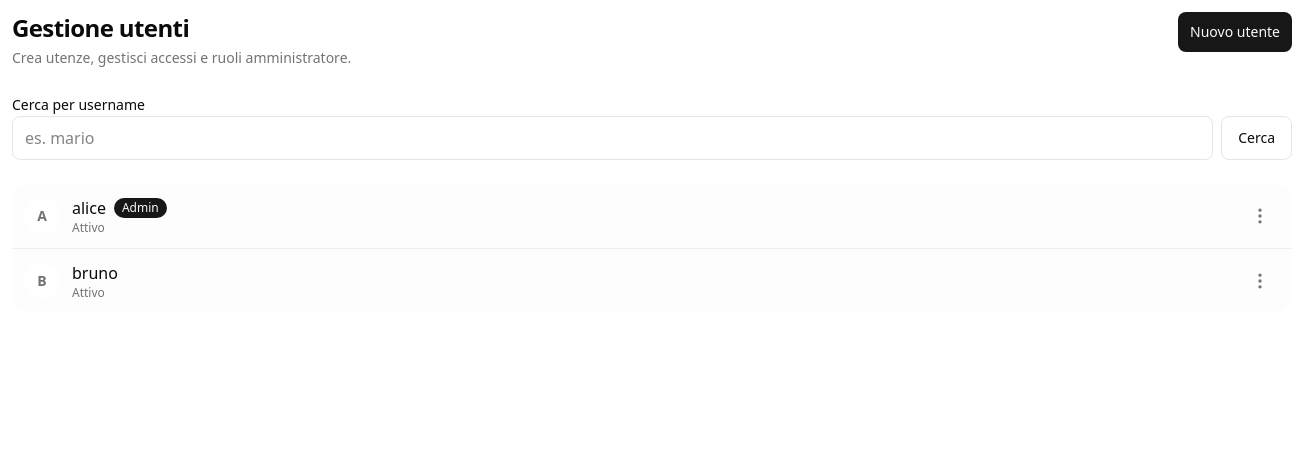
it: UsersView › disattiva un utente chiamando PATCH e aggiorna la riga
Expected: the list item does not show "Disattiva"
Click the button named "Azioni per bruno".
click(1260, 281)  # box [1240, 261, 1280, 301]
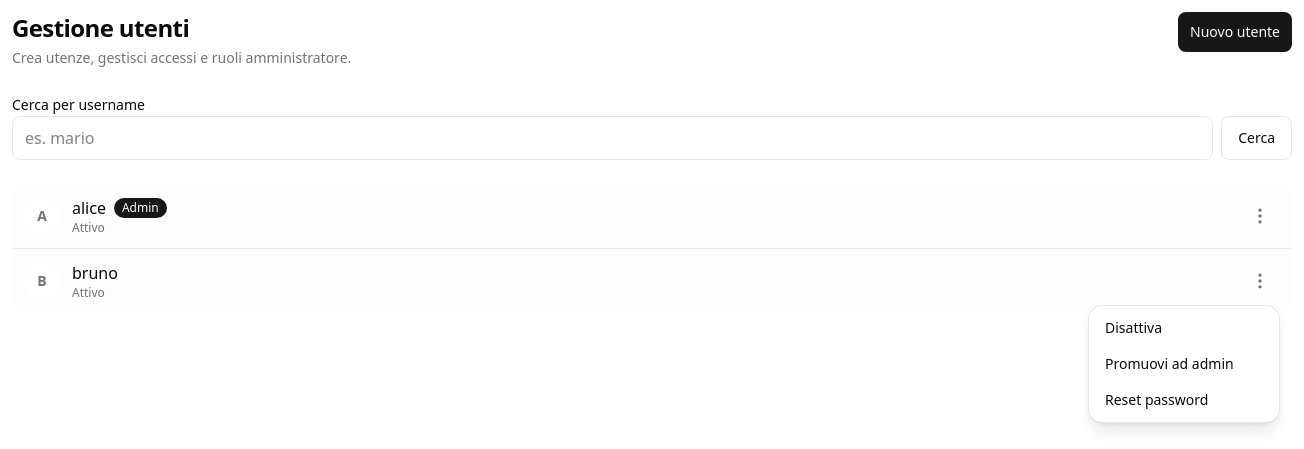
Click the menu item "Disattiva".
click(1184, 328)  # box [1093, 310, 1275, 346]
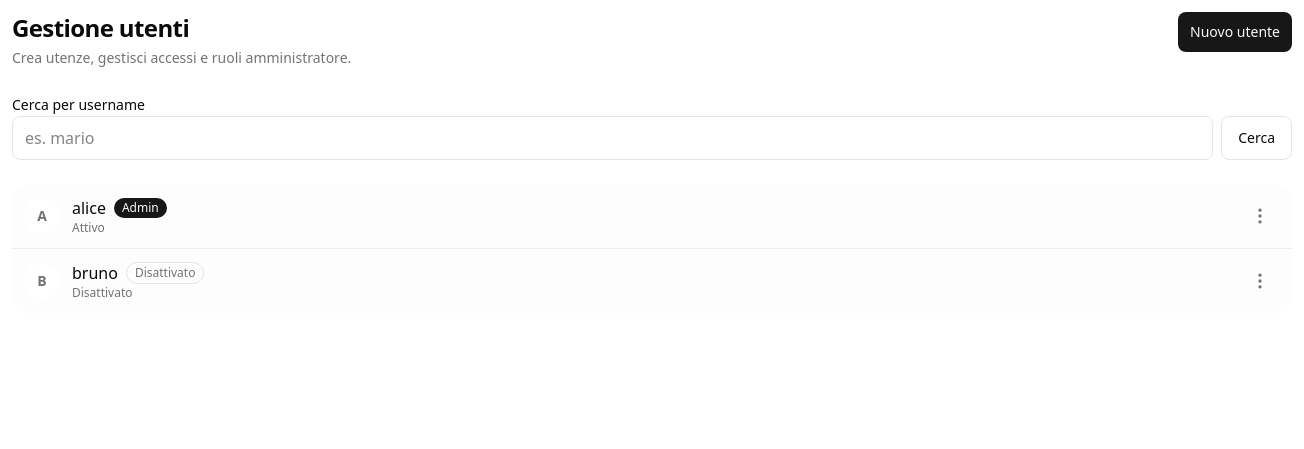
Now the text "Disattivato" is shown, box [126, 262, 204, 284]
Click the button named "Azioni per bruno".
click(1260, 281)  # box [1240, 261, 1280, 301]
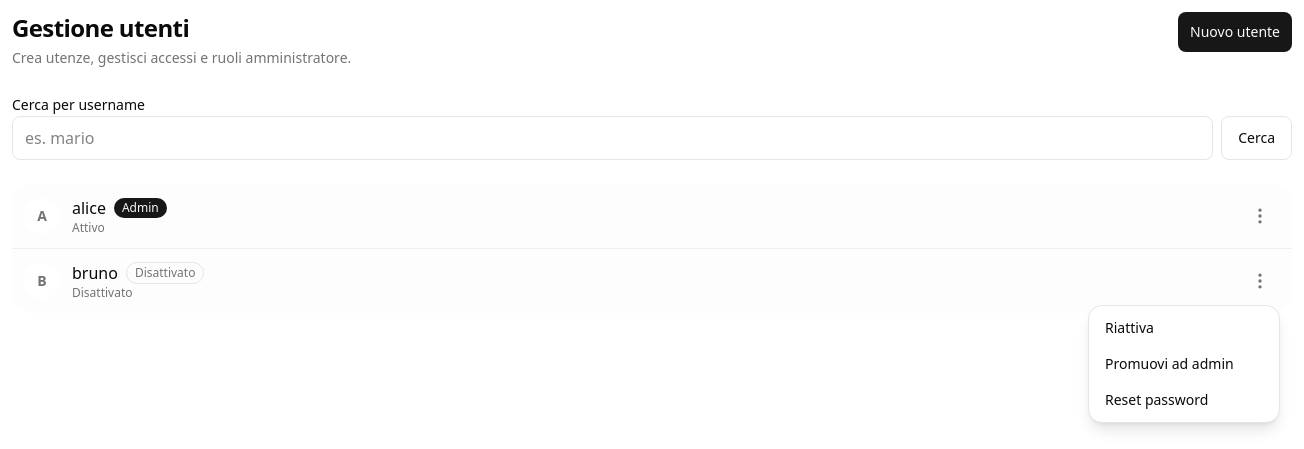
Now the menu item "Riattiva" is shown, box [1093, 310, 1275, 346]
